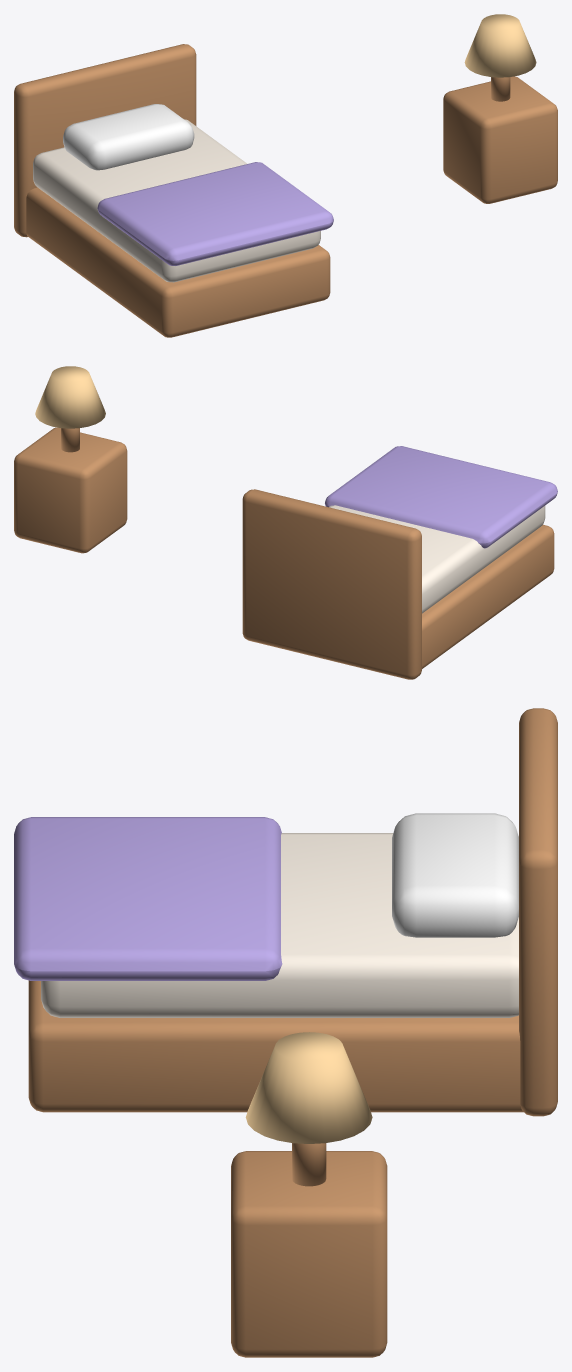
Rendered from room-quarto.glb.
3 views of the same model, one above another, from view 1: azimuth 30°, elevation 25°; view 2: azimuth 150°, elevation 25°; view 3: azimuth 270°, elevation 25° (orthographic). The views are drawn at different scales.
Visible parts, largest first — view 1: RoomQuarto; view 2: RoomQuarto; view 3: RoomQuarto.
Boxes of the visible parts, x1,y1,x2,y2 form: RoomQuarto: [14, 14, 557, 337]; RoomQuarto: [14, 366, 557, 679]; RoomQuarto: [14, 708, 557, 1357].
Size of the model in its own units: 1.91 by 0.64 by 1.11.
